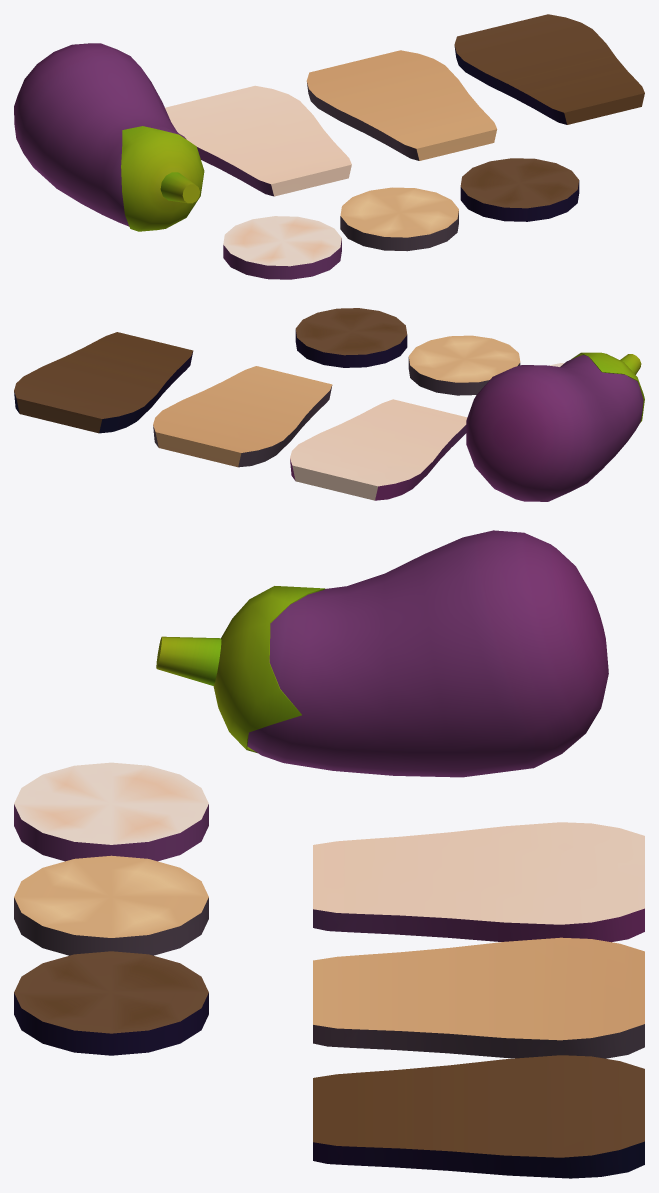
Rendered from aubergine.fbx.
3 views of the same model, one above another, from view 1: azimuth 30°, elevation 25°; view 2: azimuth 150°, elevation 25°; view 3: azimuth 270°, elevation 25° (orthographic). The views are drawn at different scales.
Parts seen in each view (by area): view 1: aubergine, aubergineSlice_Burnt, aubergineSlice_Cooked, aubergineSlice_Raw, aubergine_leaf, auberginePiece_Burnt, auberginePiece_Raw, auberginePiece_Cooked; view 2: aubergine, aubergineSlice_Burnt, aubergineSlice_Cooked, aubergineSlice_Raw, auberginePiece_Burnt, auberginePiece_Cooked, aubergine_leaf; view 3: aubergine, aubergineSlice_Burnt, aubergineSlice_Cooked, aubergineSlice_Raw, auberginePiece_Burnt, auberginePiece_Cooked, auberginePiece_Raw, aubergine_leaf.
Part boxes in pixels (x1,y1,x2,y2): aubergine: (14,43,186,226); aubergineSlice_Burnt: (454,14,644,124); aubergineSlice_Cooked: (306,50,497,160); aubergineSlice_Raw: (165,85,351,196); aubergine_leaf: (121,126,204,231); auberginePiece_Burnt: (460,158,579,221); auberginePiece_Raw: (223,216,341,279); auberginePiece_Cooked: (340,187,458,251); aubergine: (466,355,643,501); aubergineSlice_Burnt: (14,332,193,433); aubergineSlice_Cooked: (153,366,332,467); aubergineSlice_Raw: (290,399,467,500); auberginePiece_Burnt: (295,308,407,367); auberginePiece_Cooked: (408,335,520,395); aubergine_leaf: (571,352,644,422); aubergine: (247,530,608,777); aubergineSlice_Burnt: (313,1055,644,1178); aubergineSlice_Cooked: (313,937,644,1058); aubergineSlice_Raw: (313,822,644,942); auberginePiece_Burnt: (14,951,208,1055); auberginePiece_Cooked: (14,855,208,955); auberginePiece_Raw: (14,762,208,861); aubergine_leaf: (156,586,325,753).
Bounding box in the file's own units: 4.55 × 2.59 × 1.02.
